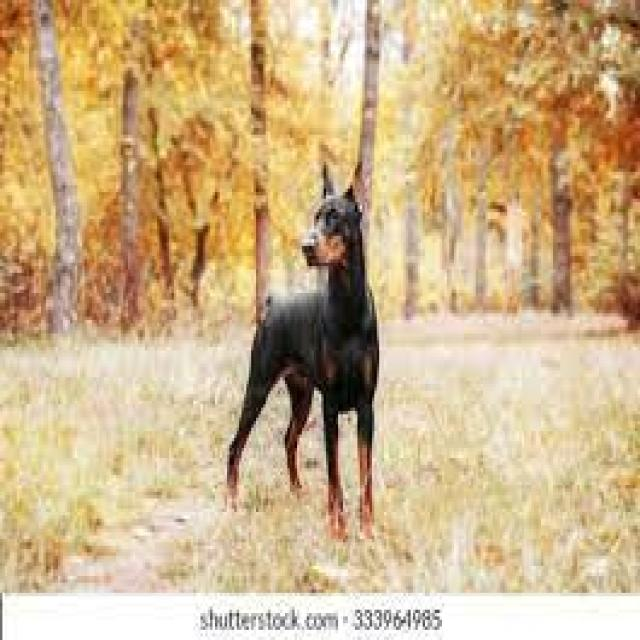Dog: (222, 155, 388, 542)
